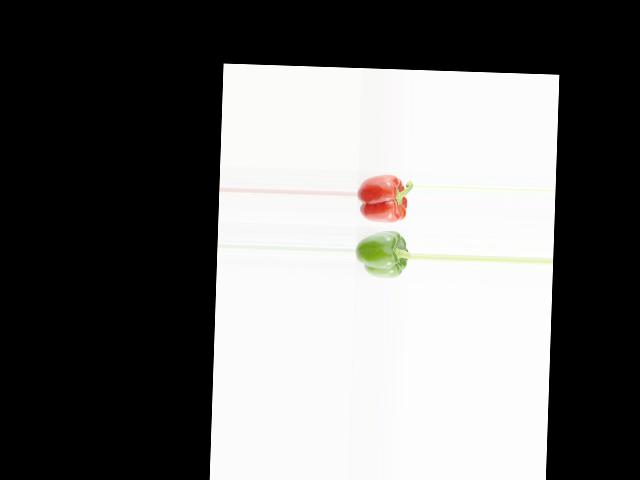bell_pepper: (356, 227, 410, 280)
